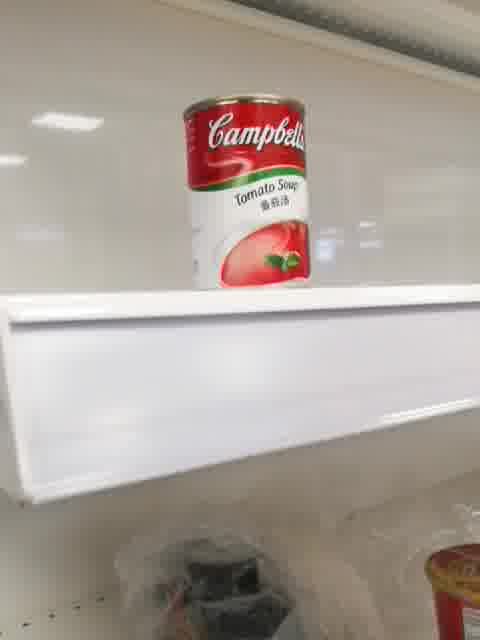tomatosoup: (181, 91, 314, 291)
